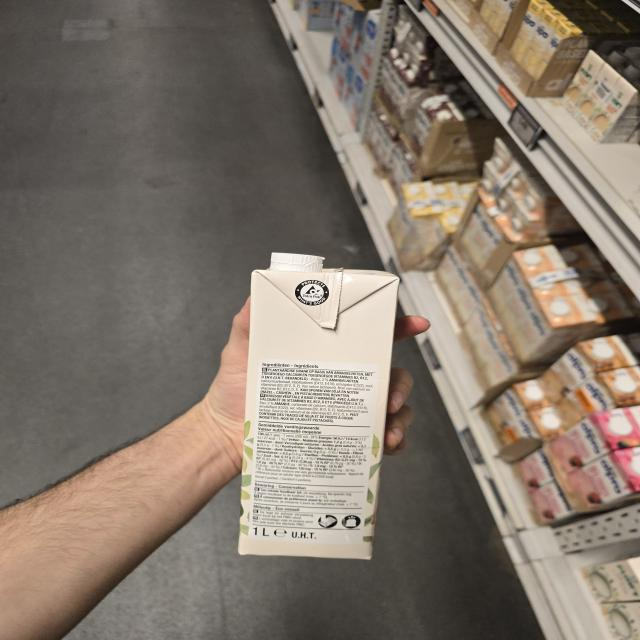Milk: (239, 253, 399, 559)
